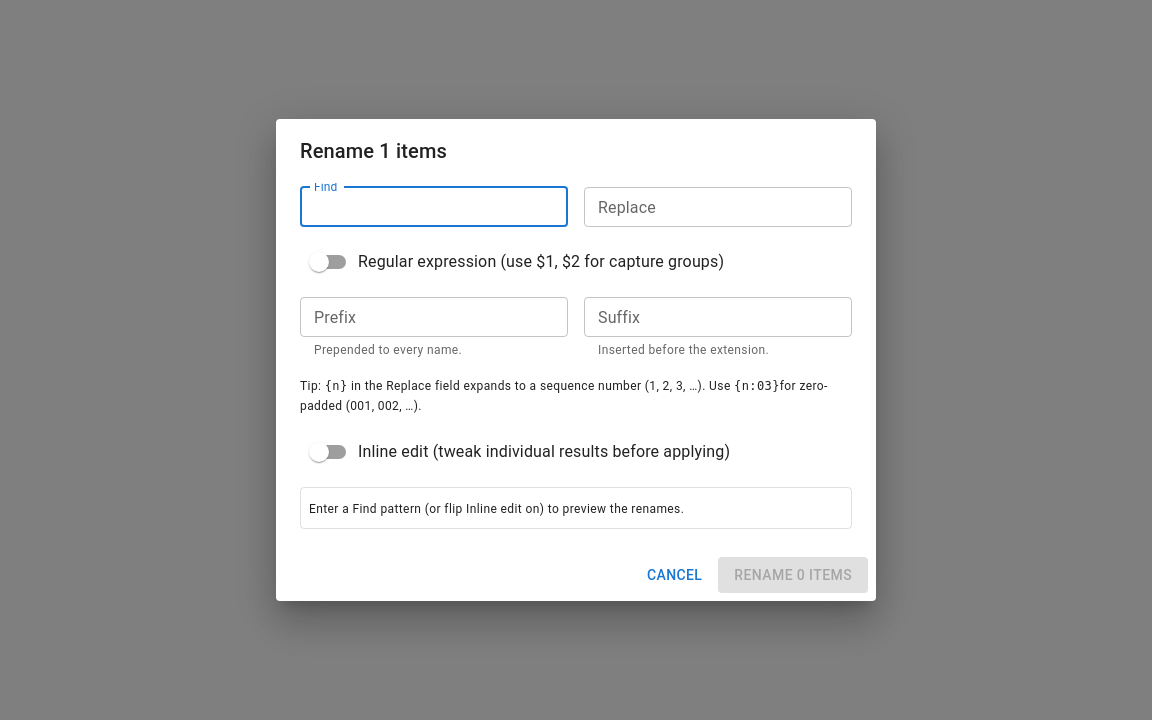
it: BulkRenameDialog › shows a 'no matches' message when find matches nothing
Type "zzzz" into the field labelled "Find" at {"x": 434, "y": 207}, box left=300, top=187, right=568, bottom=227
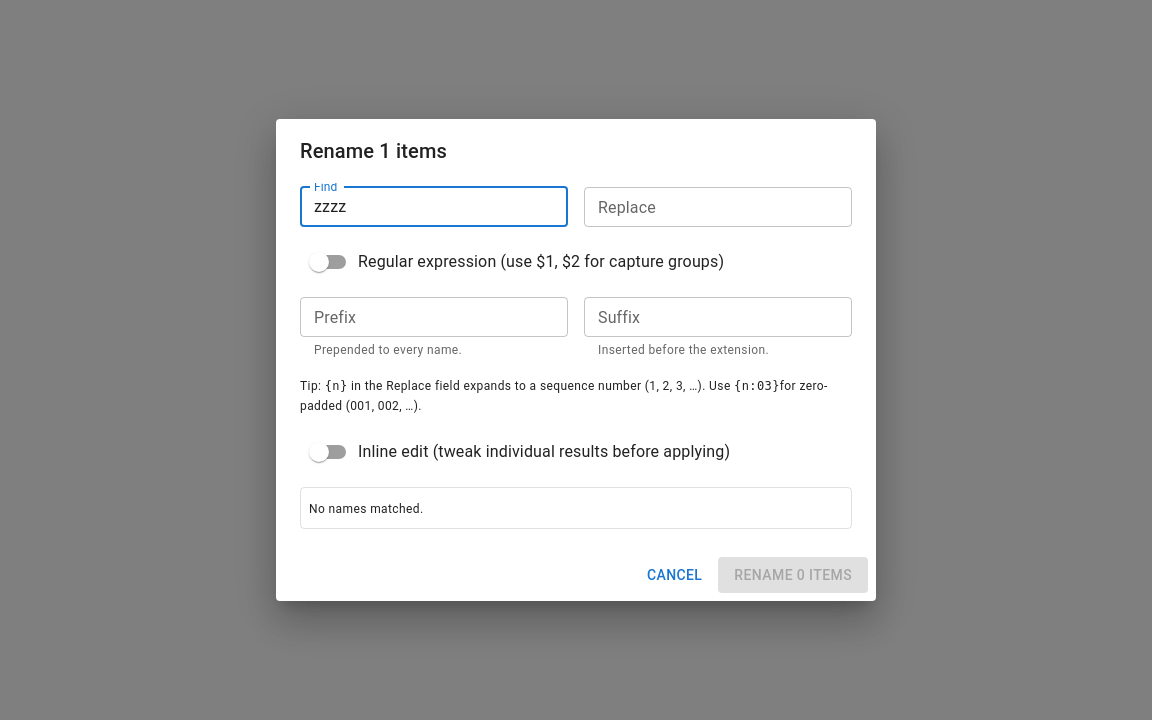
Expected: the text "No names matched." is shown, left=309, top=502, right=424, bottom=516
